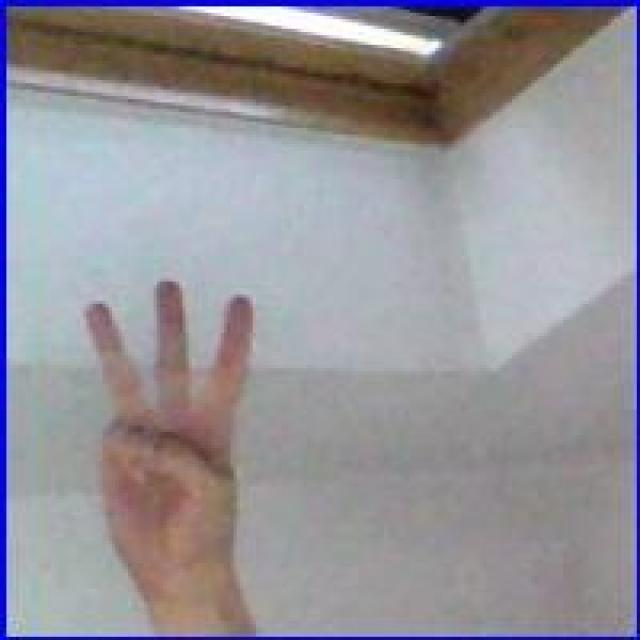W: (75, 276, 264, 598)
